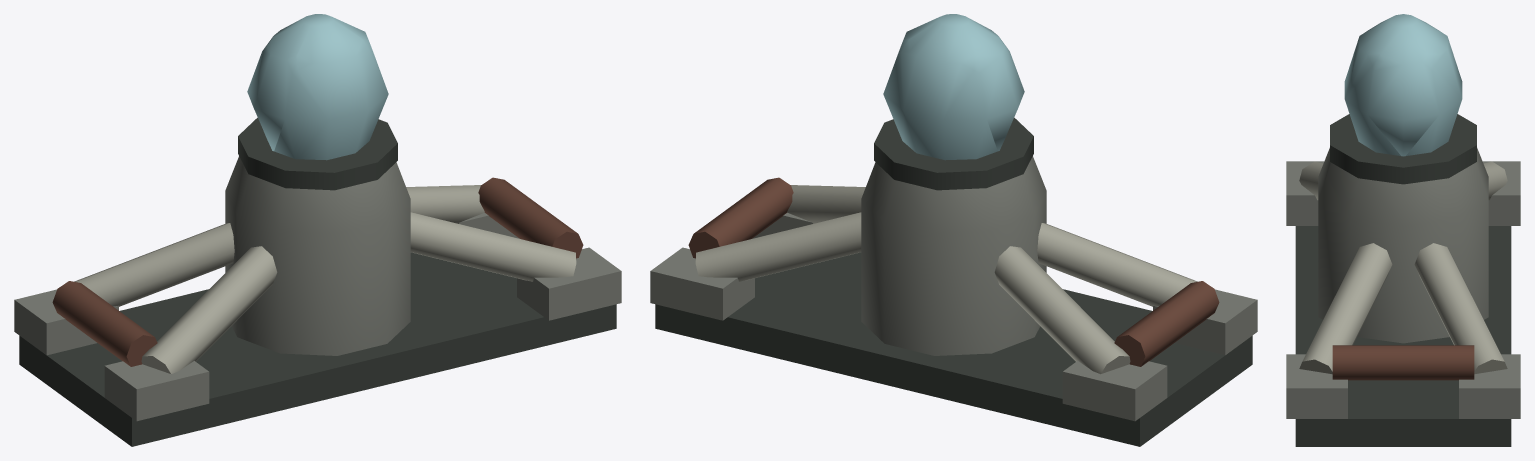
File: sleep_suppressor.obj
The picture shows the model from 3 angles, left to right: view 1: azimuth 30°, elevation 25°; view 2: azimuth 150°, elevation 25°; view 3: azimuth 270°, elevation 25°; orthographic projection. The views are drawn at different scales.
Visible parts, largest first — view 1: source_component_000, source_component_009, source_component_011, source_component_002, source_component_006, source_component_010, source_component_004, source_component_001, source_component_005, source_component_012, source_component_013, source_component_003 (+2 smaller); view 2: source_component_000, source_component_009, source_component_011, source_component_004, source_component_008, source_component_010, source_component_002, source_component_003, source_component_007, source_component_012, source_component_013, source_component_001 (+2 smaller); view 3: source_component_009, source_component_000, source_component_011, source_component_010, source_component_013, source_component_006, source_component_008, source_component_005, source_component_007, source_component_001, source_component_003, source_component_002 (+1 smaller).
Part boxes in pixels (x1,y1,x2,y2): source_component_000: (19, 252, 616, 446); source_component_009: (225, 156, 410, 355); source_component_011: (247, 14, 388, 160); source_component_002: (141, 246, 277, 374); source_component_006: (410, 212, 576, 281); source_component_010: (238, 117, 397, 190); source_component_004: (74, 223, 234, 306); source_component_001: (104, 361, 209, 421); source_component_005: (517, 247, 621, 320); source_component_012: (52, 281, 157, 366); source_component_013: (478, 177, 583, 258); source_component_003: (14, 289, 118, 355); source_component_000: (655, 252, 1252, 446); source_component_009: (861, 156, 1046, 355); source_component_011: (883, 14, 1024, 160); source_component_004: (994, 246, 1130, 374); source_component_008: (695, 212, 861, 281); source_component_010: (874, 117, 1033, 190); source_component_002: (1037, 223, 1197, 306); source_component_003: (1062, 361, 1167, 421); source_component_007: (650, 247, 754, 320); source_component_012: (1114, 281, 1219, 366); source_component_013: (688, 177, 793, 258); source_component_001: (1153, 289, 1257, 355); source_component_009: (1318, 148, 1488, 343); source_component_000: (1295, 226, 1511, 446); source_component_011: (1344, 14, 1462, 156); source_component_010: (1330, 114, 1476, 184); source_component_013: (1332, 345, 1474, 380); source_component_006: (1299, 243, 1392, 374); source_component_008: (1414, 243, 1507, 374); source_component_005: (1286, 354, 1347, 418); source_component_007: (1459, 354, 1520, 418); source_component_001: (1286, 161, 1324, 225); source_component_003: (1482, 161, 1520, 225); source_component_002: (1299, 161, 1323, 200).
Size of the model in its own units: 1.74 by 1.12 by 0.76.
